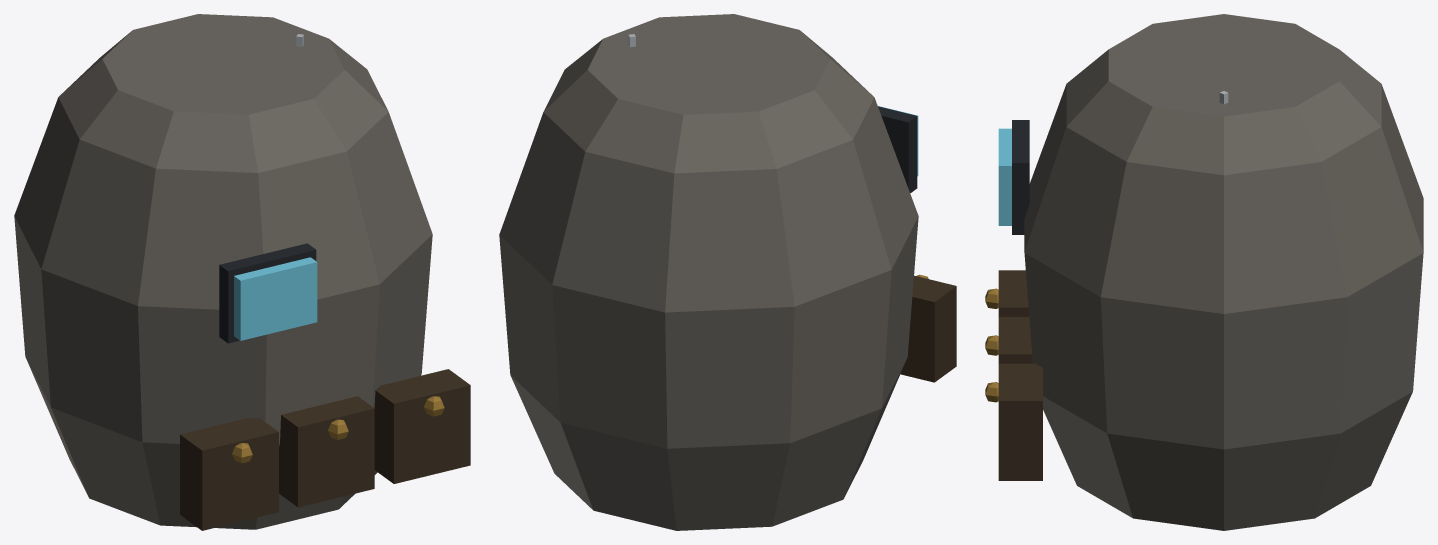
Rendered from tracker-utility-vest.glb.
The picture shows the model from 3 angles, left to right: view 1: azimuth 30°, elevation 25°; view 2: azimuth 150°, elevation 25°; view 3: azimuth 270°, elevation 25°; orthographic projection.
Parts seen in each view (by area): view 1: m; view 2: m; view 3: m.
Boxes of the visible parts, x1,y1,x2,y2 form: m: [14, 14, 470, 530]; m: [499, 14, 956, 530]; m: [985, 14, 1423, 530].
Bounding box in the file's own units: 0.1854 × 0.2 × 0.1936.
